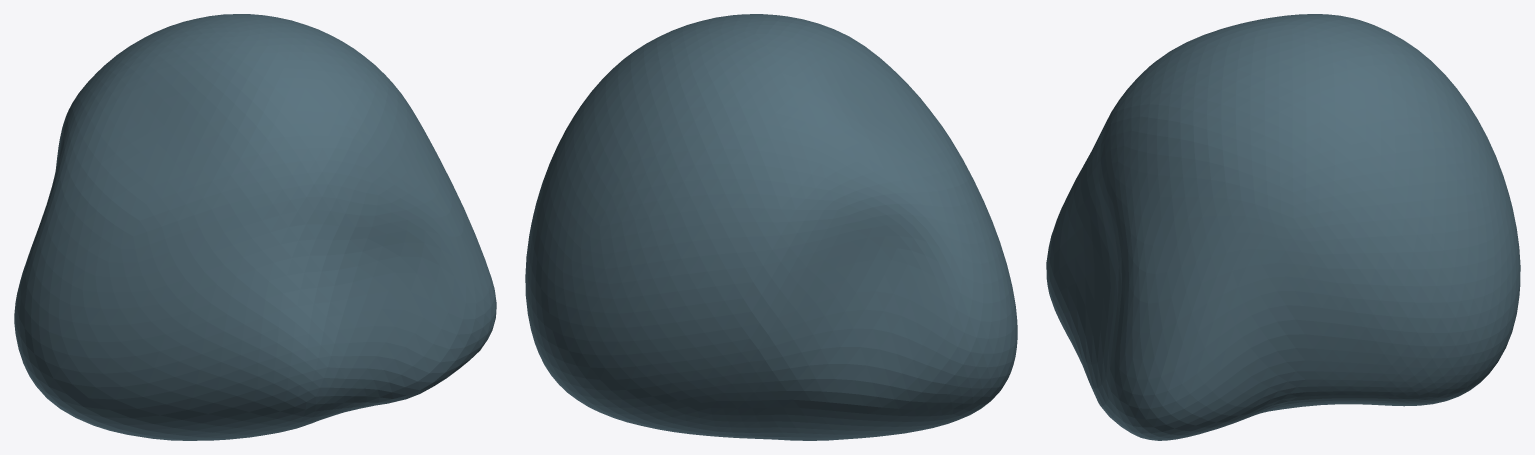
Rendered from Rock1.fbx.
3 views of the same model, side by side, from view 1: azimuth 30°, elevation 25°; view 2: azimuth 150°, elevation 25°; view 3: azimuth 270°, elevation 25° (orthographic). The views are drawn at different scales.
Parts seen in each view (by area): view 1: Rock1; view 2: Rock1; view 3: Rock1.
Part boxes in pixels (<box>): Rock1: <box>14,14,496,440</box>; Rock1: <box>525,14,1017,440</box>; Rock1: <box>1046,14,1520,440</box>.
Size of the model in its own units: 29.98 by 24.59 by 27.87.
